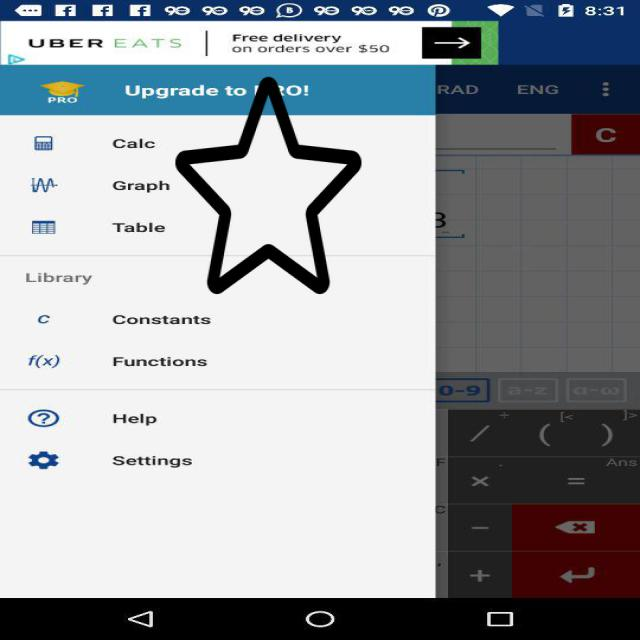forced continuity: (176, 72, 362, 299)
